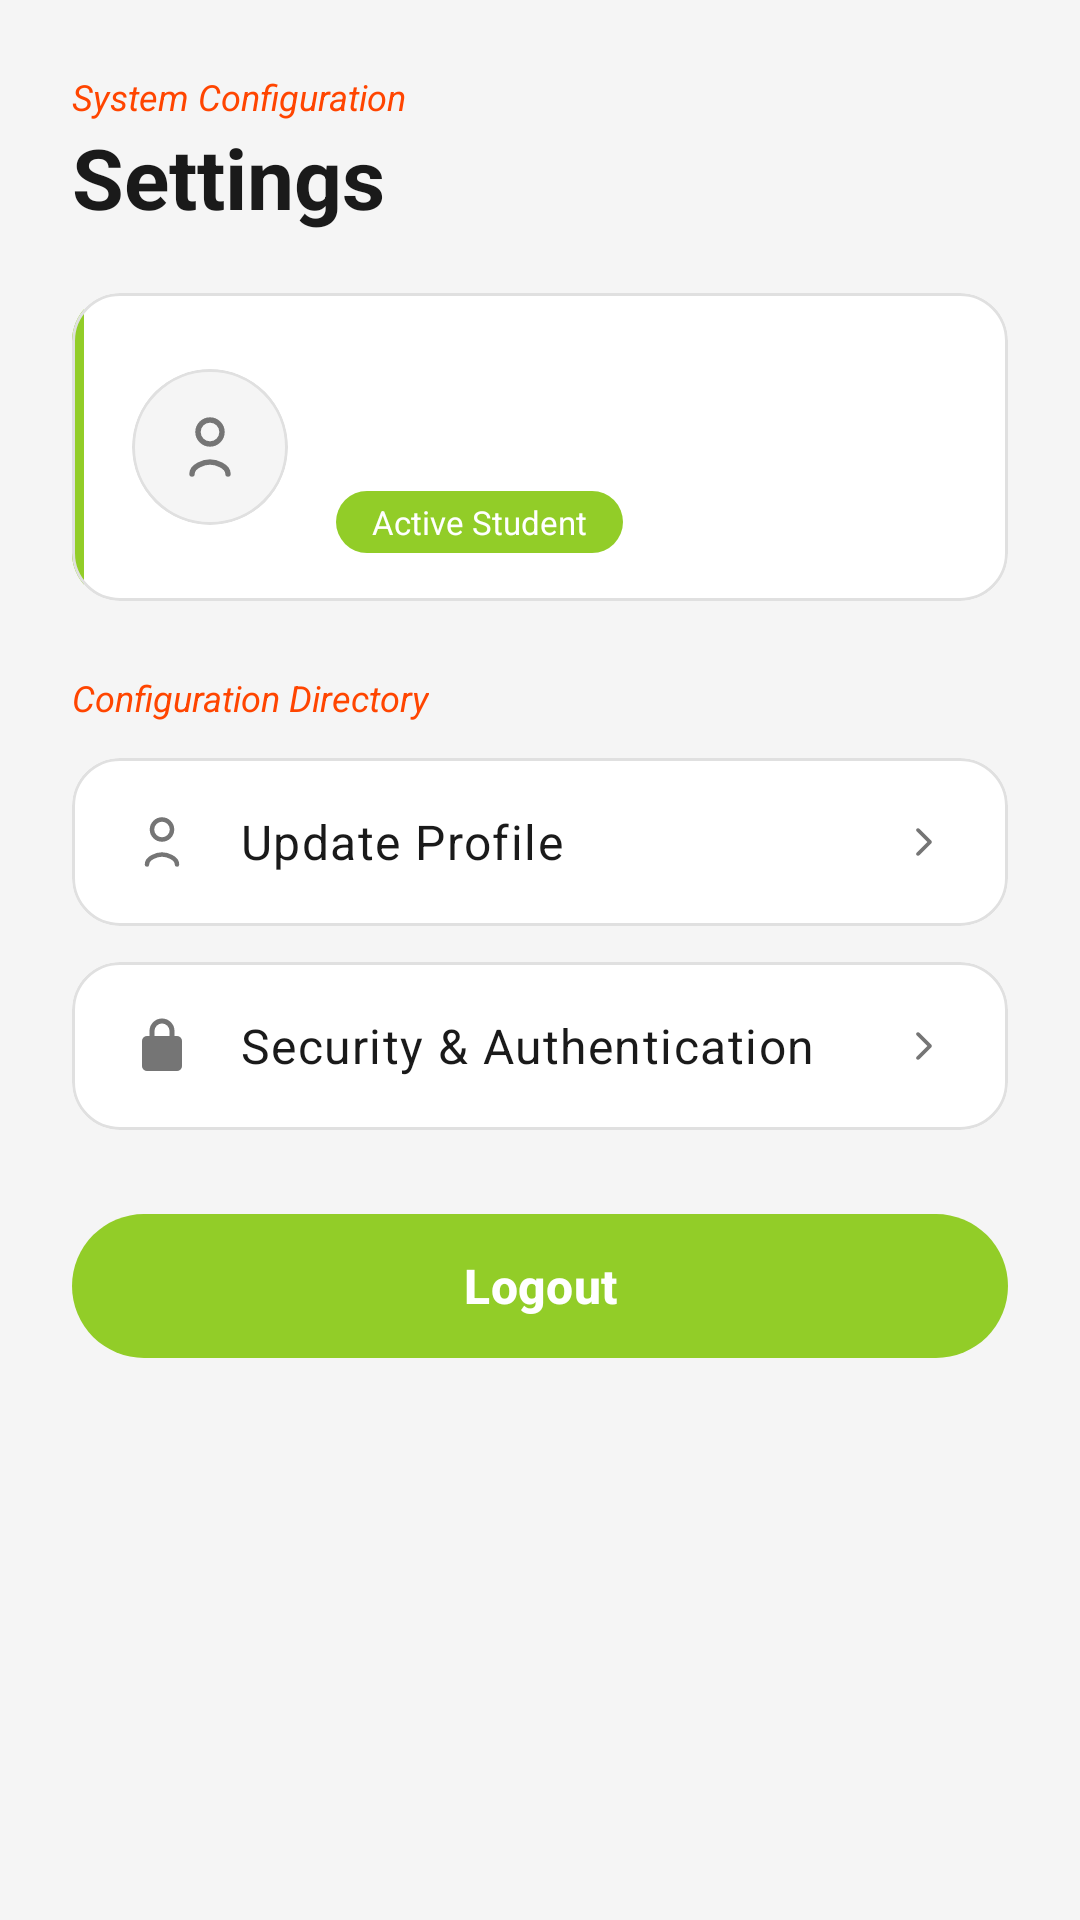

Screen size 1080*1920. Icon name, then its box in pixels as box(x1, y1, x2, y2):
lock: box(142, 1018, 182, 1071)
